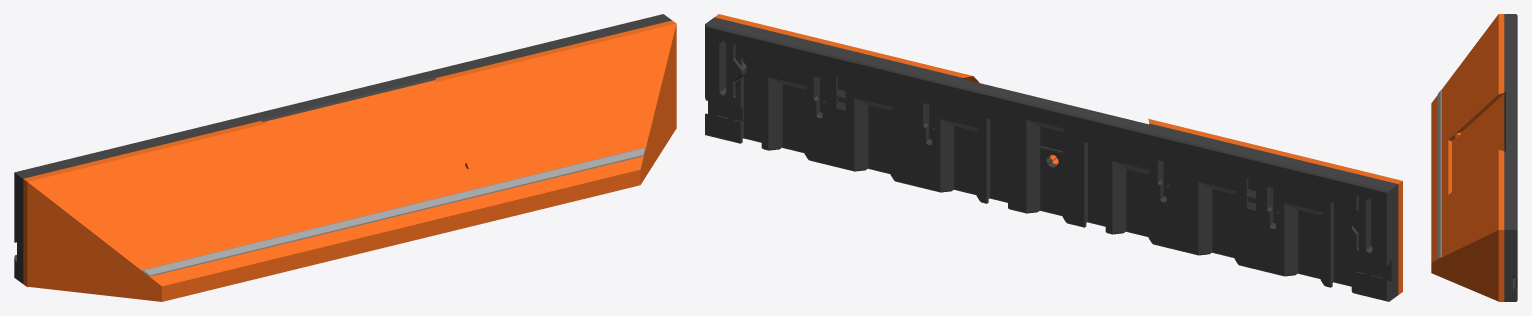
The model's file is Faceplate_ClassicPro_2W-05H.lib.glb.
3 views of the same model, side by side, from view 1: azimuth 30°, elevation 25°; view 2: azimuth 150°, elevation 25°; view 3: azimuth 270°, elevation 25° (orthographic). The views are drawn at different scales.
Visible parts, largest first — view 1: Faceplate_ClassicPro_2W-05H; view 2: Faceplate_ClassicPro_2W-05H; view 3: Faceplate_ClassicPro_2W-05H.
Boxes of the visible parts, box(x1,y1,x2,y2) form: Faceplate_ClassicPro_2W-05H: box(14, 14, 676, 301); Faceplate_ClassicPro_2W-05H: box(705, 14, 1402, 301); Faceplate_ClassicPro_2W-05H: box(1431, 14, 1517, 301).
Size of the model in its own units: 175 by 27.15 by 29.5.
